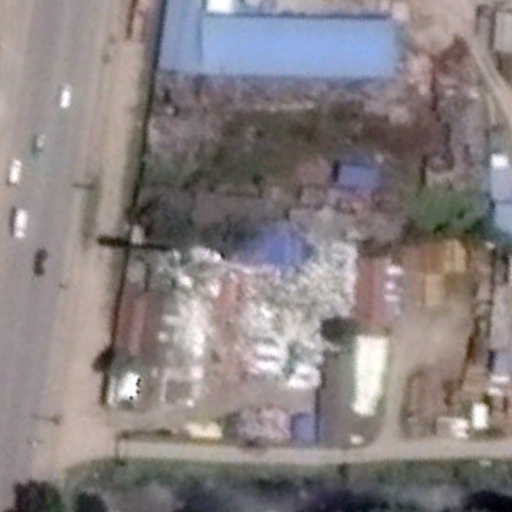msw: (226, 241, 358, 388)
